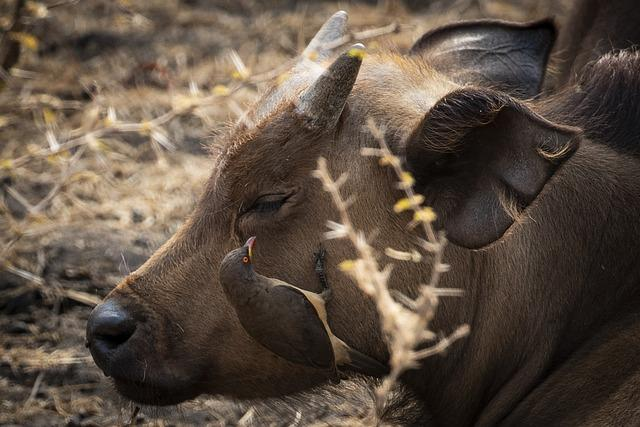Non_Gorille: (60, 19, 628, 406)
